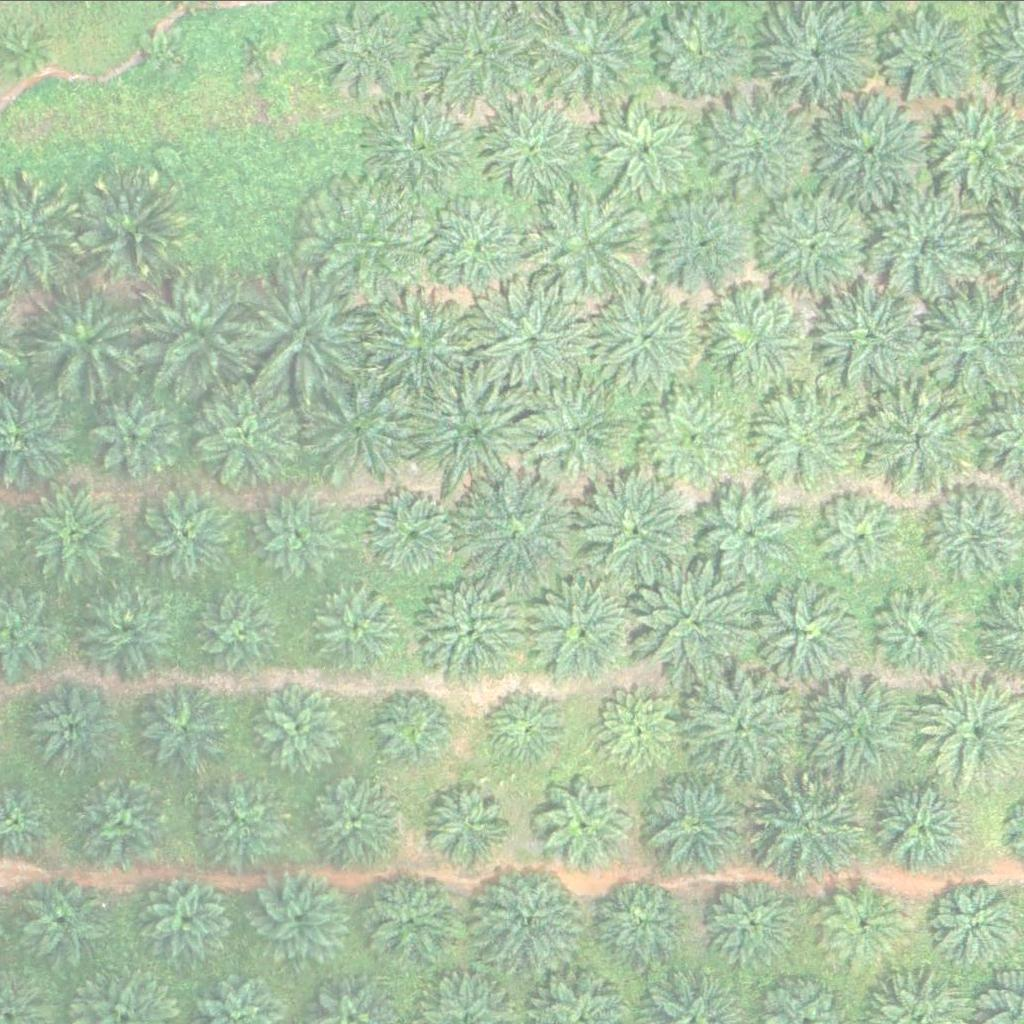Kelapa_Sawit: (309, 184, 423, 297), (141, 272, 255, 385), (248, 272, 362, 385), (471, 861, 585, 974), (641, 764, 755, 877), (754, 772, 868, 885), (863, 766, 976, 879), (414, 575, 527, 688), (530, 574, 643, 687), (463, 471, 576, 584), (581, 473, 694, 586), (753, 377, 866, 490), (862, 385, 975, 498), (363, 292, 476, 405), (425, 189, 538, 302), (532, 185, 645, 298), (646, 188, 759, 301), (700, 85, 813, 198), (810, 93, 923, 206), (25, 288, 139, 400), (686, 667, 800, 779), (798, 670, 912, 782), (866, 573, 980, 685), (357, 95, 471, 207), (472, 91, 586, 203), (69, 170, 182, 282), (192, 377, 305, 489), (306, 370, 419, 482), (241, 860, 354, 972), (636, 566, 749, 678), (749, 572, 862, 684), (421, 375, 534, 487), (523, 373, 636, 485), (482, 284, 595, 396), (593, 283, 706, 395), (817, 278, 930, 390), (760, 190, 873, 302), (872, 189, 985, 301), (133, 481, 234, 581), (78, 580, 179, 680), (21, 676, 122, 776), (133, 676, 234, 776), (190, 771, 291, 871), (303, 770, 404, 870), (140, 870, 241, 970), (698, 485, 799, 585), (644, 389, 745, 489), (704, 289, 805, 389), (591, 99, 692, 199), (882, 4, 983, 104), (25, 484, 125, 584), (590, 872, 690, 972), (704, 872, 804, 972), (536, 775, 636, 875), (648, 3, 748, 103), (16, 875, 105, 963), (254, 491, 342, 579), (371, 486, 459, 574), (196, 589, 284, 677), (427, 780, 515, 868), (481, 682, 569, 770), (595, 685, 683, 773), (313, 583, 402, 670), (253, 683, 342, 770), (89, 392, 177, 479), (75, 777, 163, 864), (366, 875, 454, 962), (820, 880, 908, 967), (369, 685, 457, 772), (817, 489, 905, 576), (2, 22, 53, 72), (147, 33, 185, 70), (238, 37, 276, 74)
